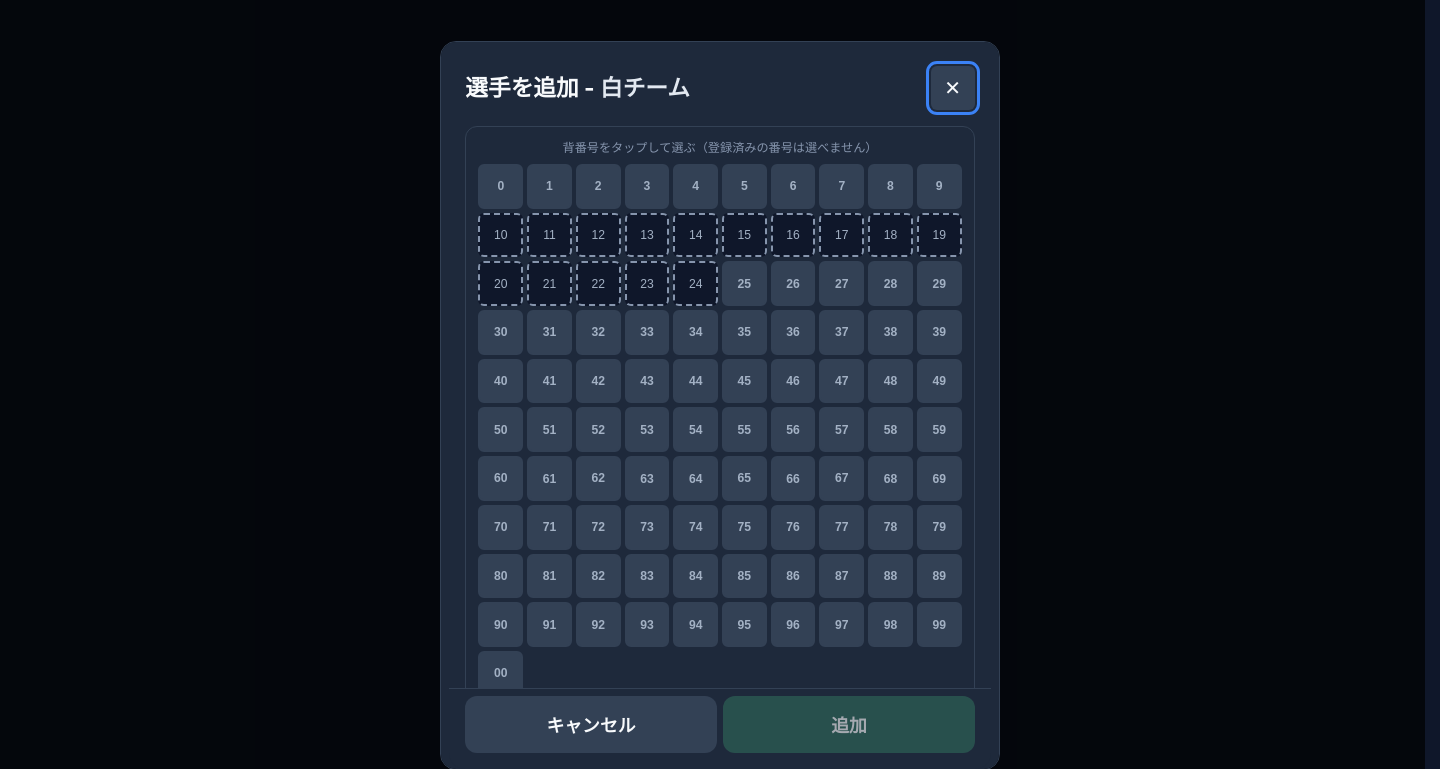
Test: AddPlayersPanel: 15人あふれの案内 › 複数人が外れるときは全員を挙げる
Click the button named "背番号4": (696, 186) [673,164,718,208]
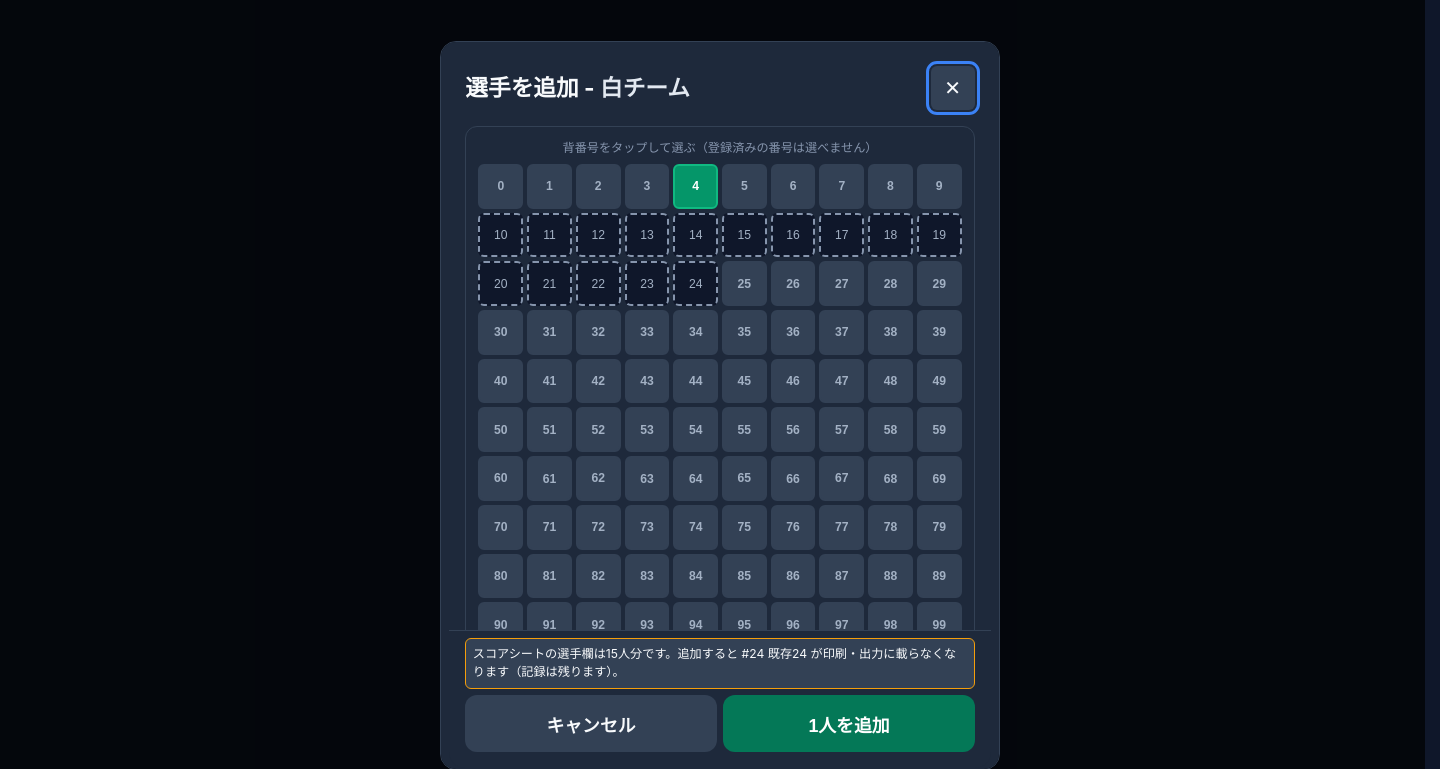
Click the button named "背番号5": (744, 186) [722,164,767,208]
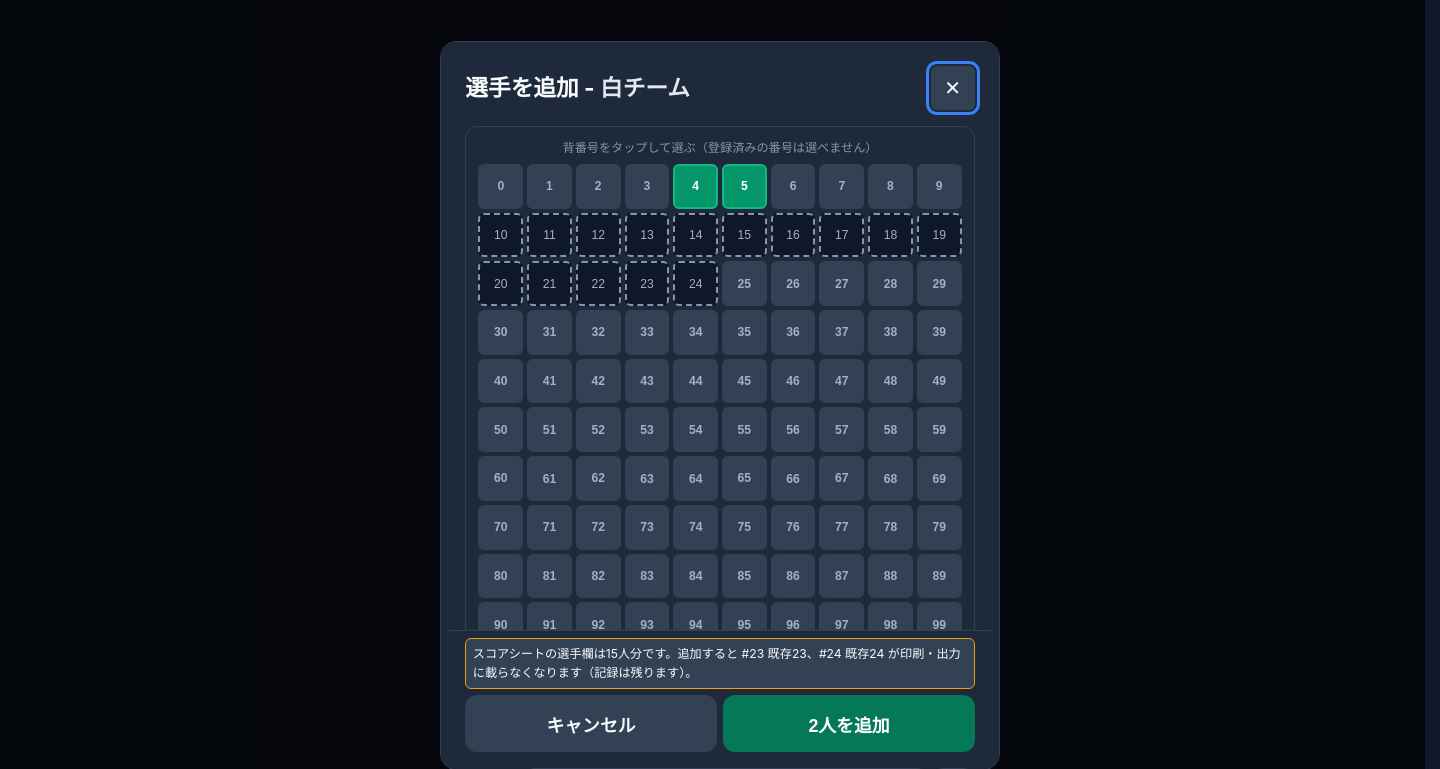
Expected: the message shows "#24 既存24", [473,646,961,679]
Expected: the message shows "#23 既存23", [473,646,961,679]
